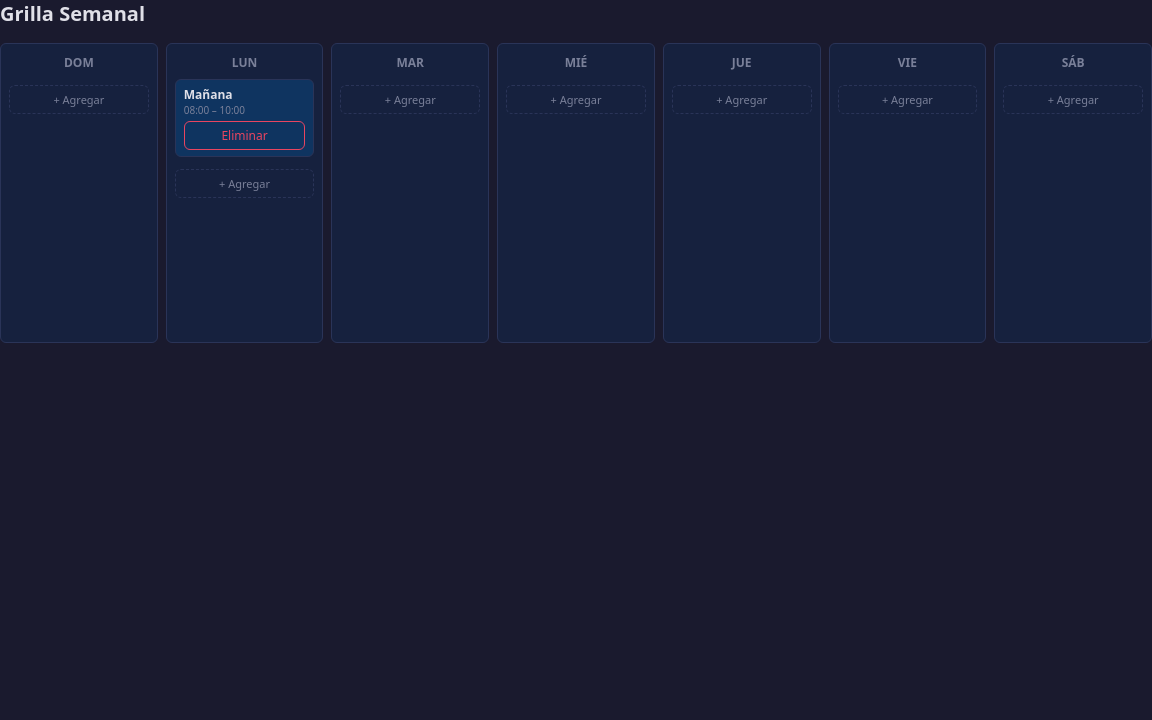
it: ProgramsPage › shows error when submitting without name
Click the button "+ Agregar" below "Dom" at (79, 100), box x1=9 y1=85 x2=149 y2=114
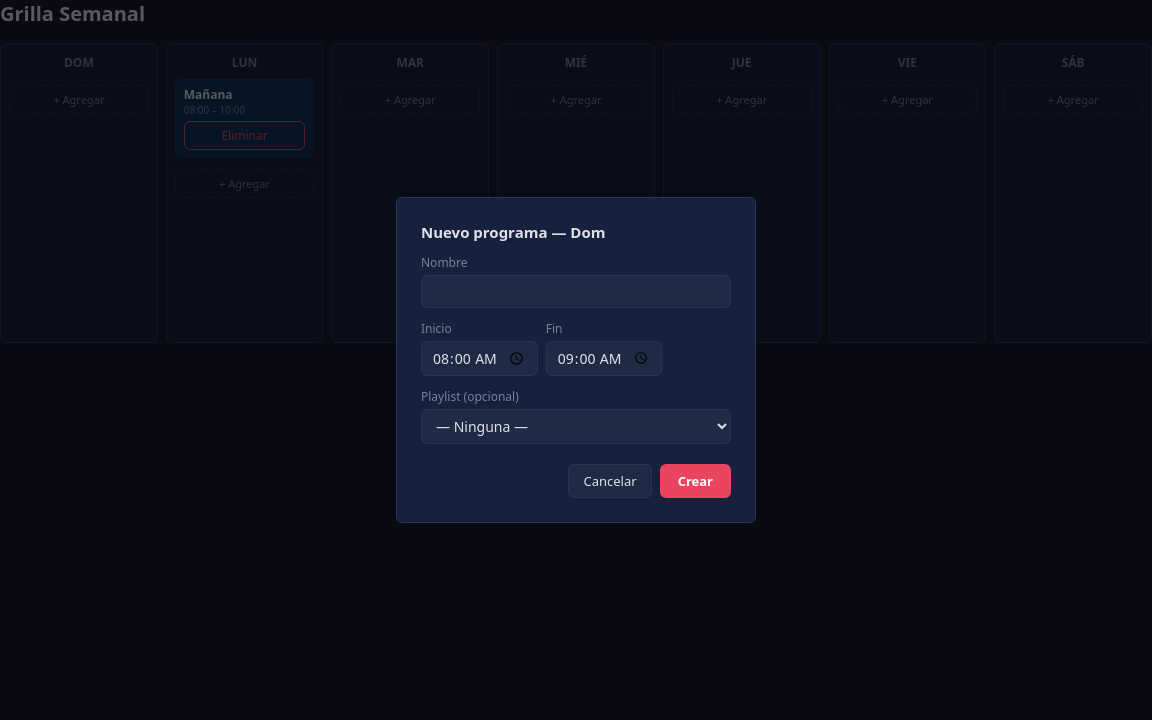
Click the button "Crear" at (695, 481), box x1=660 y1=464 x2=731 y2=498
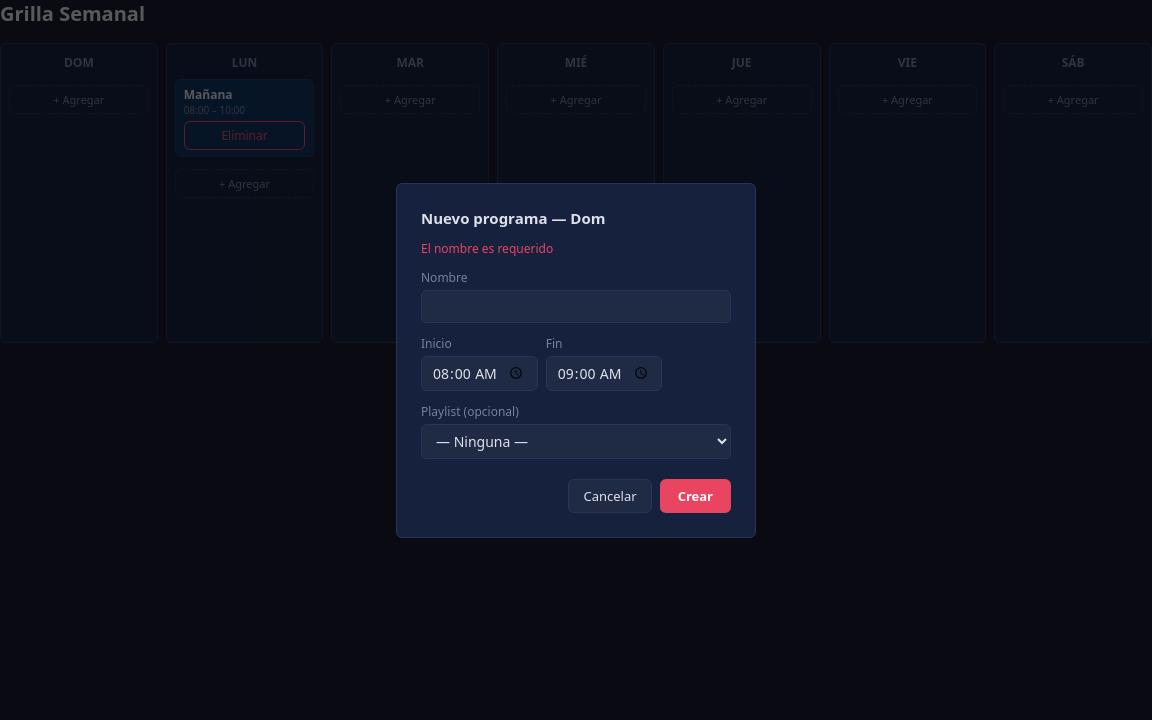
Check: the text "El nombre es requerido" is shown, box x1=421 y1=240 x2=553 y2=256
